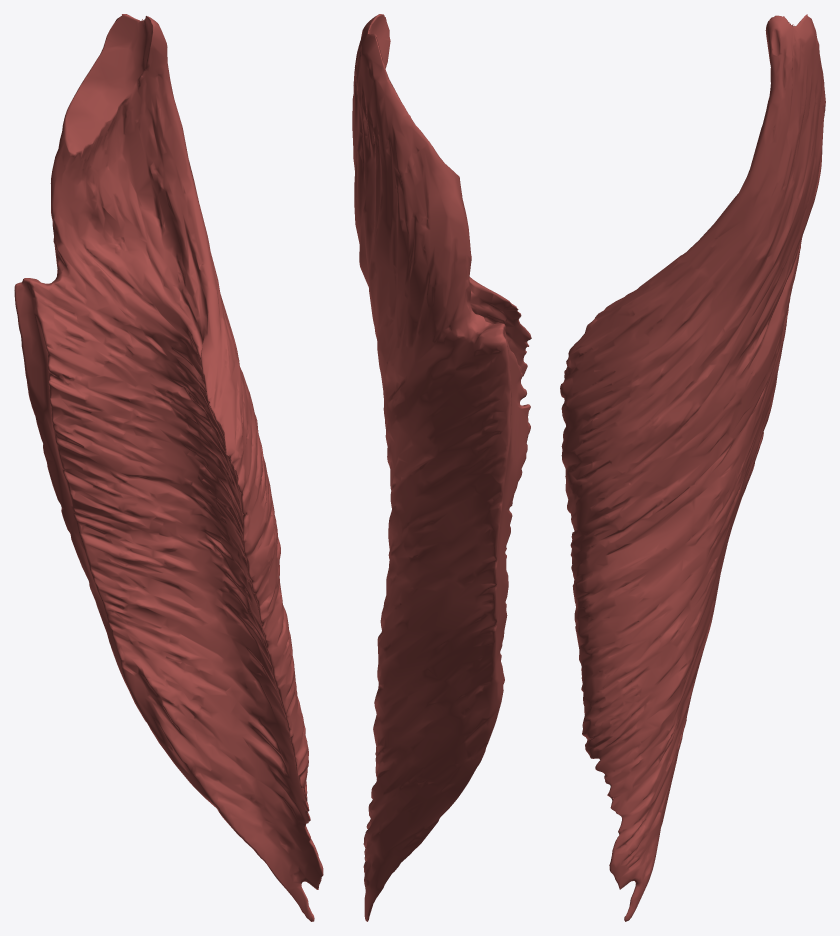
Rendered from FMA38514.glb.
3 views of the same model, side by side, from view 1: azimuth 30°, elevation 25°; view 2: azimuth 150°, elevation 25°; view 3: azimuth 270°, elevation 25° (orthographic). The views are drawn at different scales.
Visible parts, largest first — view 1: FMA38514; view 2: FMA38514; view 3: FMA38514.
Boxes of the visible parts, left/top/right/bottom form: FMA38514: left=14, top=14, right=323, bottom=921; FMA38514: left=352, top=14, right=531, bottom=921; FMA38514: left=560, top=14, right=825, bottom=921.
Size of the model in its own units: 0.0319 by 0.1236 by 0.0345.
